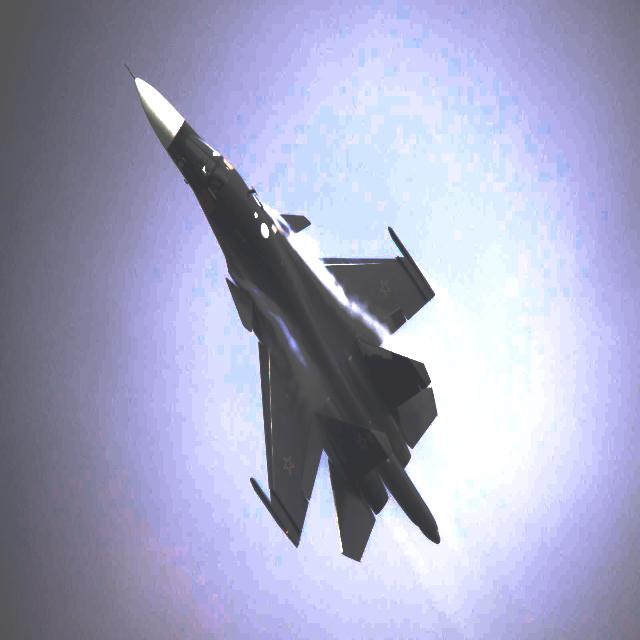Aircraft: (122, 58, 450, 574)
